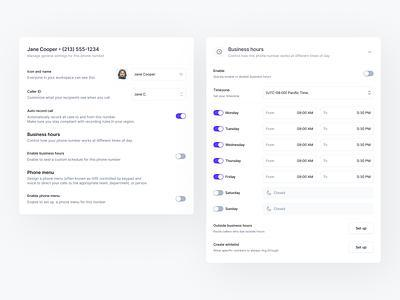button: (348, 241, 378, 255), (348, 223, 377, 237)
dropdown: (133, 69, 188, 80)
switch: (175, 151, 190, 163), (175, 195, 189, 205), (213, 205, 225, 215), (213, 141, 226, 150), (214, 125, 226, 134), (213, 174, 225, 183), (213, 158, 226, 166), (174, 114, 188, 121), (364, 71, 376, 79), (213, 109, 225, 117), (214, 190, 225, 198)
